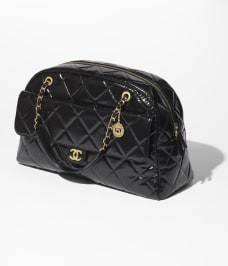channel: (12, 59, 202, 204), (111, 121, 155, 185), (31, 78, 54, 131), (60, 143, 88, 168)
